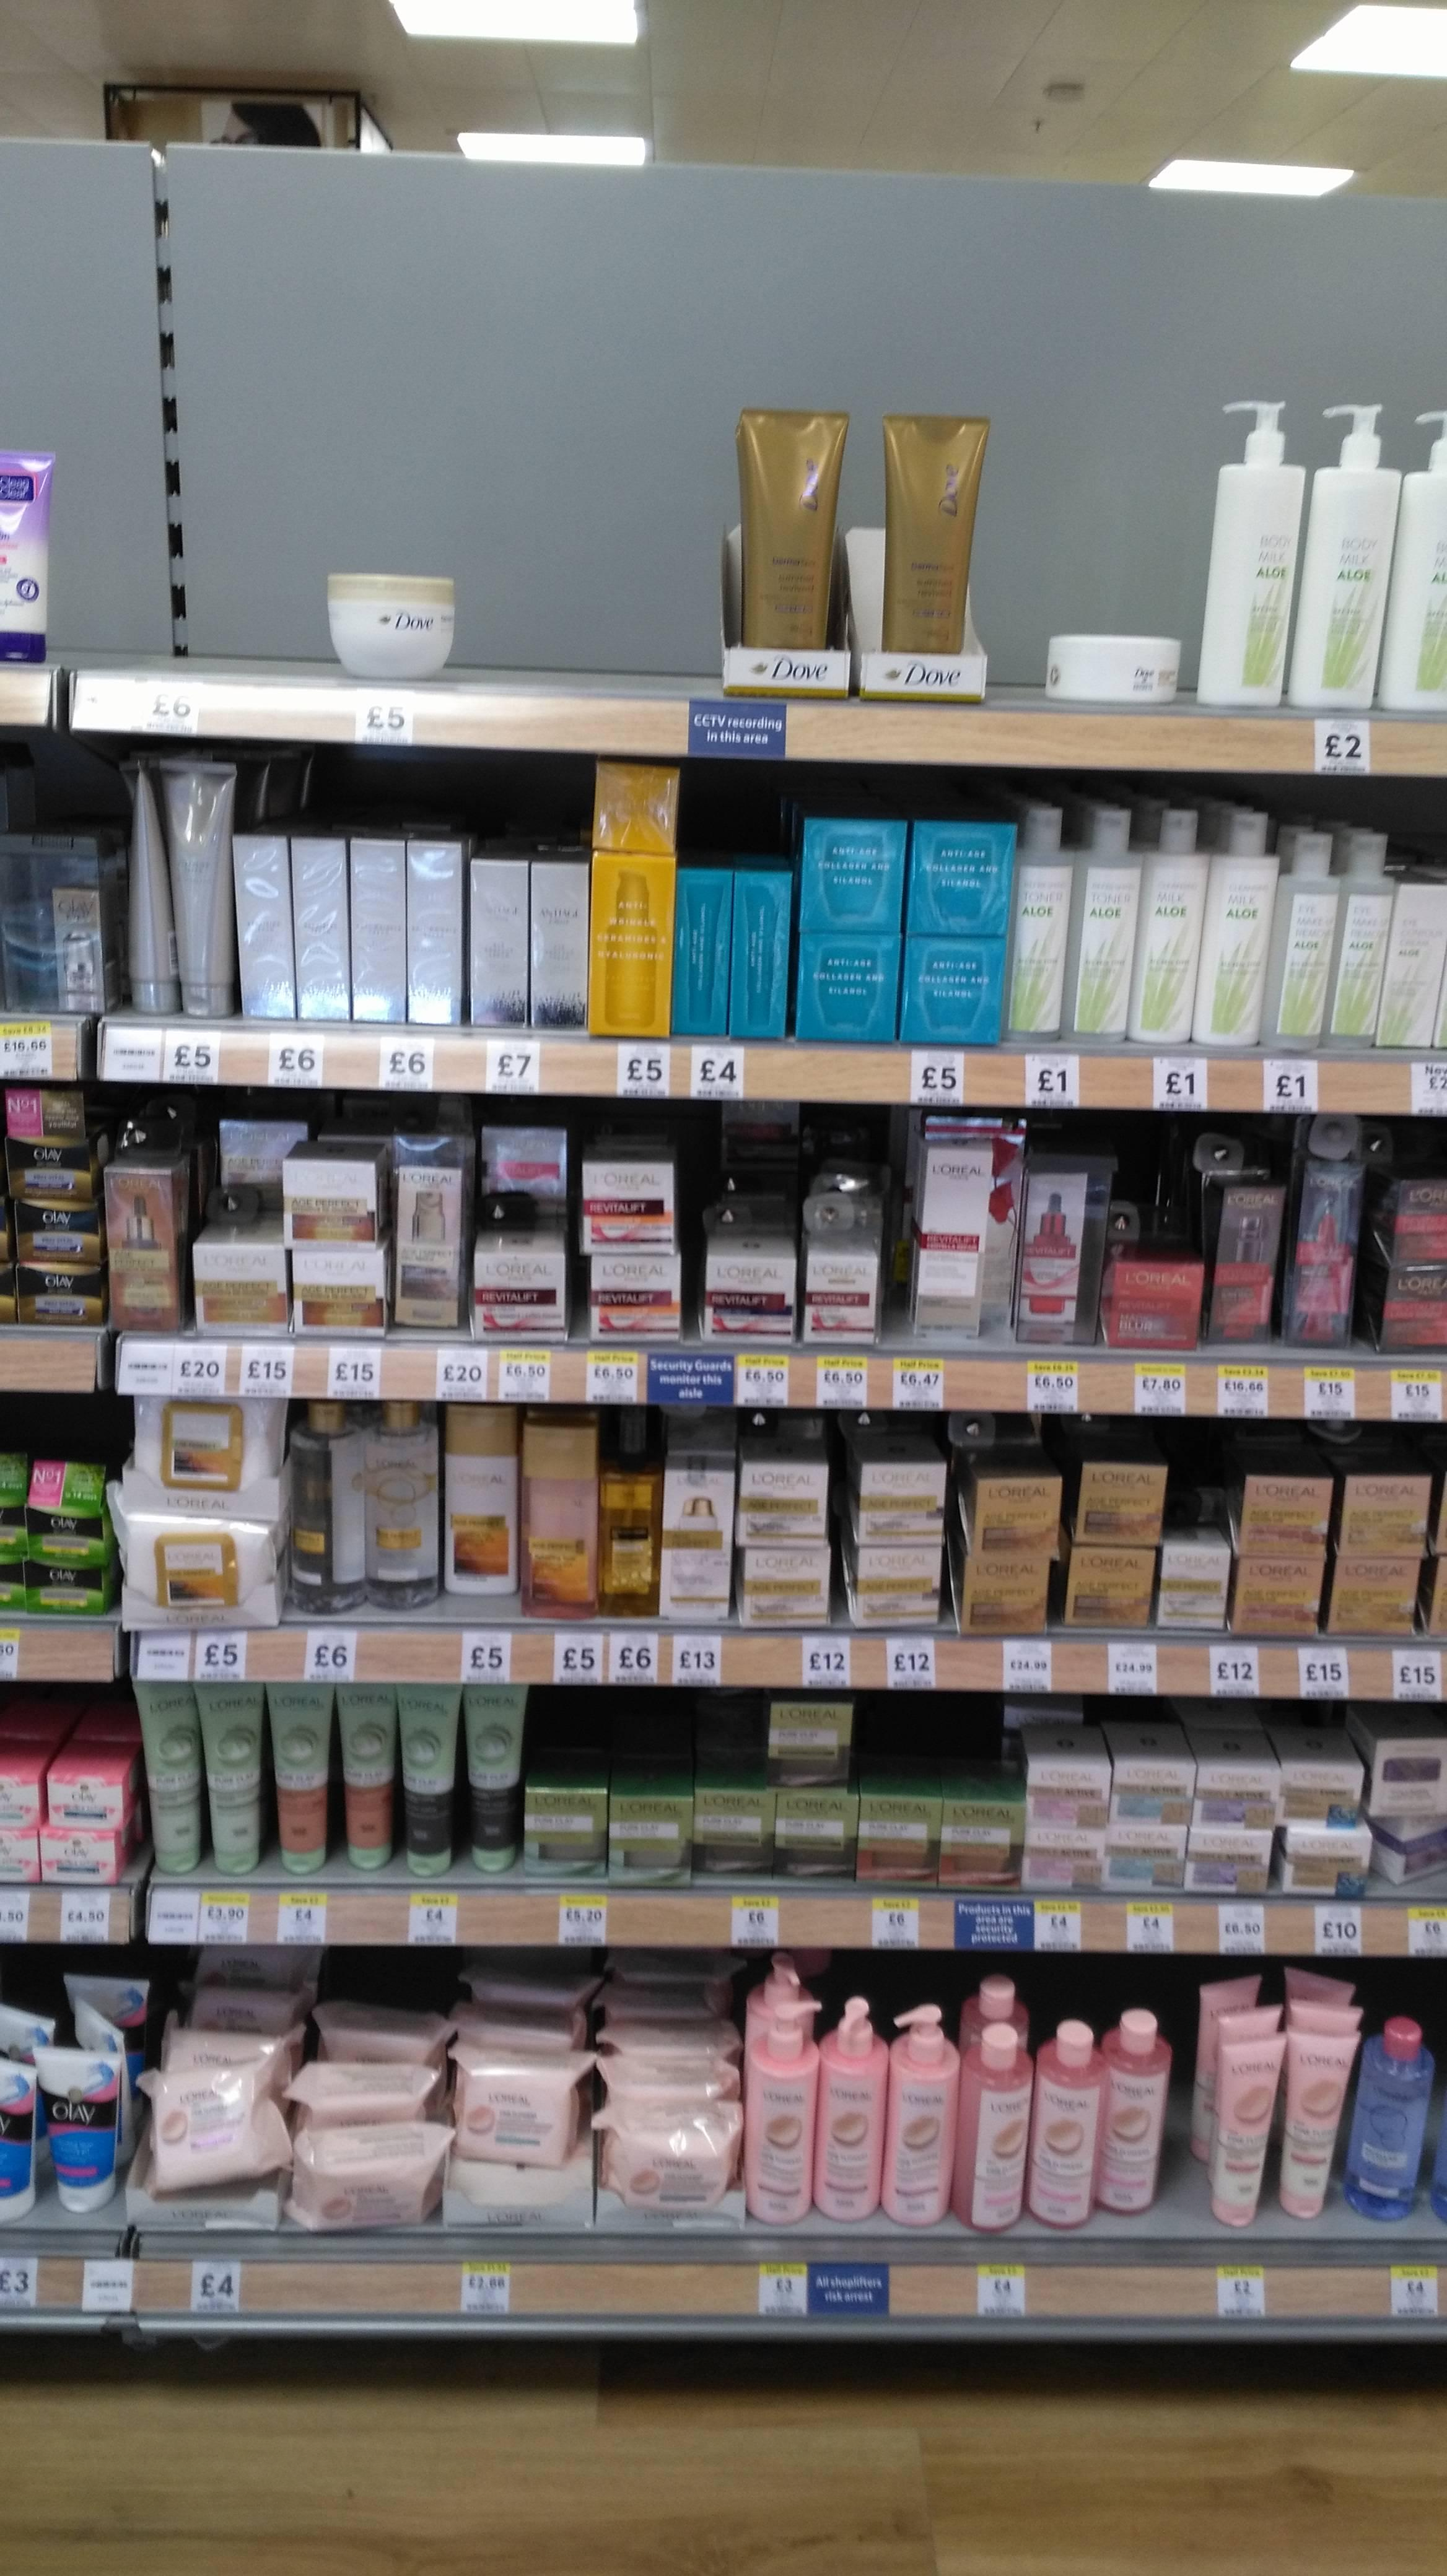misalignment: (131, 2054, 295, 2181), (295, 2137, 451, 2233), (580, 761, 693, 855), (23, 1447, 111, 1546), (764, 1695, 867, 1773), (1376, 1805, 1447, 1882)
